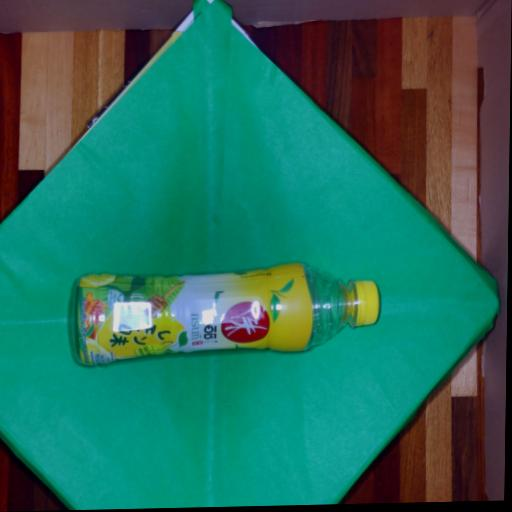bottle: (55, 253, 395, 372)
